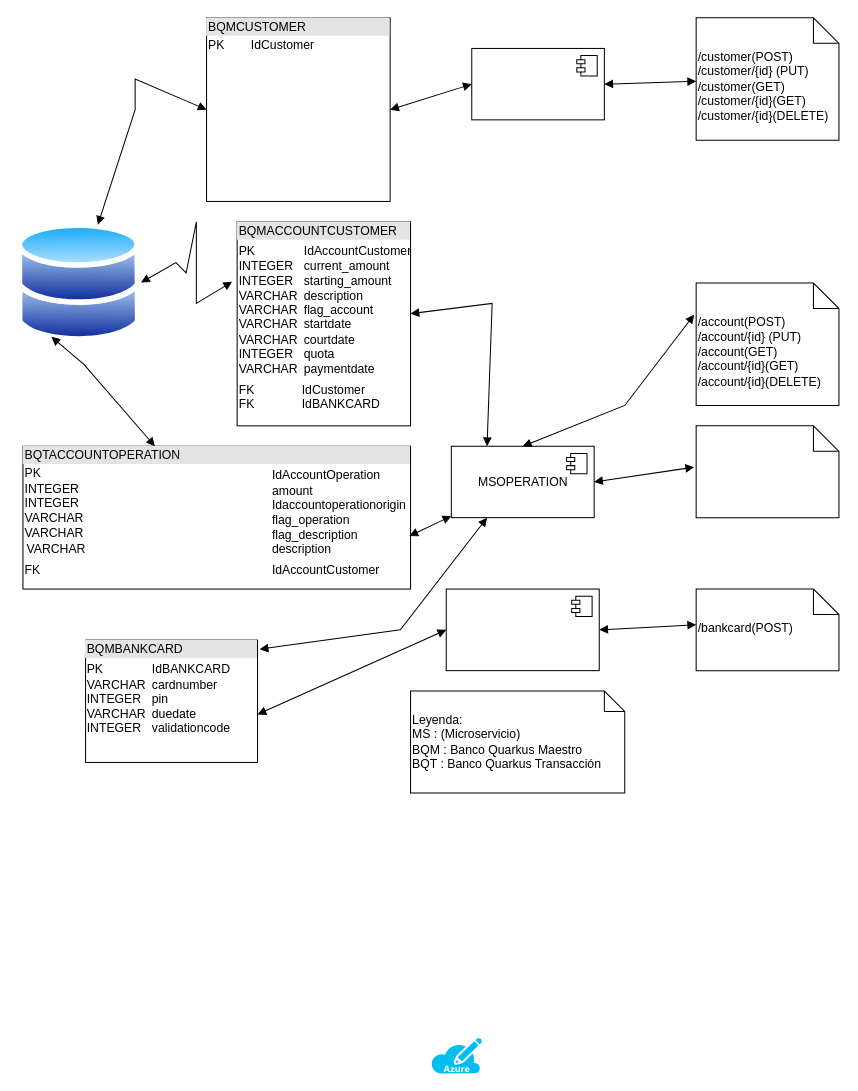
This 858x1091 diagram has some shape labels left out. Each missing label, with the box of its shape:
/operation(POST) / operation (GET) /operation/{id}(GET): (695, 425, 839, 518)
MSBANKCARD: (445, 588, 599, 671)
MSCUSTOMER: (471, 47, 604, 120)
PostgresSQL: (17, 221, 140, 343)
